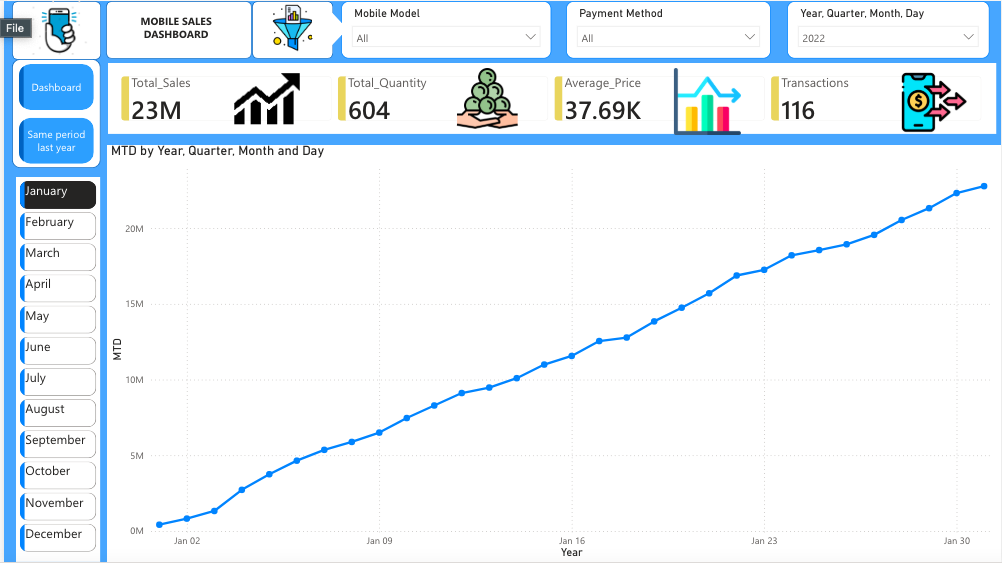

The page's visual inventory and layout, read from the dashboard file:
{"tool":"powerbi","page":{"name":"MTD Report","canvas":[1280,720],"ordinal":1},"visuals":[{"type":"shape","box":[10,0,114.3,75.7],"z":0},{"type":"image","box":[10,0,121.4,74.3],"z":1000},{"type":"shape","box":[10,75,113.8,140],"z":2000},{"type":"cardVisual","fields":{"Data":["Mobile_sales_data.Total_Sales","Mobile_sales_data.Total_Quantity","Mobile_sales_data.Average_Price","Mobile_sales_data.Transactions"]},"box":[132.9,80,1140,91.4],"z":3000},{"type":"slicer","fields":{"Values":["Mobile_sales_data.Mobile Model"]},"box":[432.9,0,270,74.3],"z":4000},{"type":"slicer","fields":{"Values":["Mobile_sales_data.Payment Method"]},"box":[721.4,0,262.9,74.3],"z":5000},{"type":"slicer","fields":{"Values":["Custom_Calendar.Date.Variation.Date Hierarchy.Year","Custom_Calendar.Date.Variation.Date Hierarchy.Quarter","Custom_Calendar.Date.Variation.Date Hierarchy.Month","Custom_Calendar.Date.Variation.Date Hierarchy.Day"]},"box":[1004.3,0,260,74.3],"z":6000},{"type":"shape","box":[318.6,0,104.3,74.3],"z":7000},{"type":"image","box":[322.9,2.9,95.7,64.3],"z":8000},{"type":"shape","box":[395.7,11.4,45.7,48.6],"z":9000},{"type":"image","box":[242.9,82.9,190,84.3],"z":10000},{"type":"image","box":[520,82.9,201.4,82.9],"z":11000},{"type":"image","box":[760,85.7,285.7,85.7],"z":12000},{"type":"image","box":[1105.7,88.6,174.3,82.9],"z":13000},{"type":"shape","box":[131.4,0,187.1,74.3],"z":14000},{"type":"textbox","box":[144.3,11.4,154.3,48.6],"z":15000},{"type":"lineChart","fields":{"Y":["Mobile_sales_data.MTD"],"Category":["Custom_Calendar.Date.Variation.Date Hierarchy.Year","Custom_Calendar.Date.Variation.Date Hierarchy.Quarter","Custom_Calendar.Date.Variation.Date Hierarchy.Month","Custom_Calendar.Date.Variation.Date Hierarchy.Day"]},"box":[132.5,184.3,1147.7,535.7],"z":16000},{"type":"advancedSlicerVisual","fields":{"Values":["Custom_Calendar.Date.Variation.Date Hierarchy.Month"]},"box":[15.8,226.1,108,493.9],"z":17000},{"type":"pageNavigator","box":[18.7,80.6,96.5,128.2],"z":18000}]}

Visuals, with their boxes in screenshot pixels (x1, y1, x2, y2), scaled from the page's 1280x720 canvas onto the 1002x563 screenshot:
shape: [8, 0, 97, 59]
image: [8, 0, 103, 58]
shape: [8, 59, 97, 168]
cardVisual - Mobile_sales_data.Total_Sales x Mobile_sales_data.Total_Quantity: [104, 63, 996, 134]
slicer - Mobile_sales_data.Mobile Model: [339, 0, 550, 58]
slicer - Mobile_sales_data.Payment Method: [565, 0, 771, 58]
slicer - Custom_Calendar.Date.Variation.Date Hierarchy.Year x Custom_Calendar.Date.Variation.Date Hierarchy.Quarter: [786, 0, 990, 58]
shape: [249, 0, 331, 58]
image: [253, 2, 328, 53]
shape: [310, 9, 346, 47]
image: [190, 65, 339, 131]
image: [407, 65, 565, 130]
image: [595, 67, 819, 134]
image: [866, 69, 1001, 134]
shape: [103, 0, 249, 58]
textbox: [113, 9, 234, 47]
lineChart - Mobile_sales_data.MTD x Custom_Calendar.Date.Variation.Date Hierarchy.Year: [104, 144, 1001, 562]
advancedSlicerVisual - Custom_Calendar.Date.Variation.Date Hierarchy.Month: [12, 177, 97, 562]
pageNavigator: [15, 63, 90, 163]
